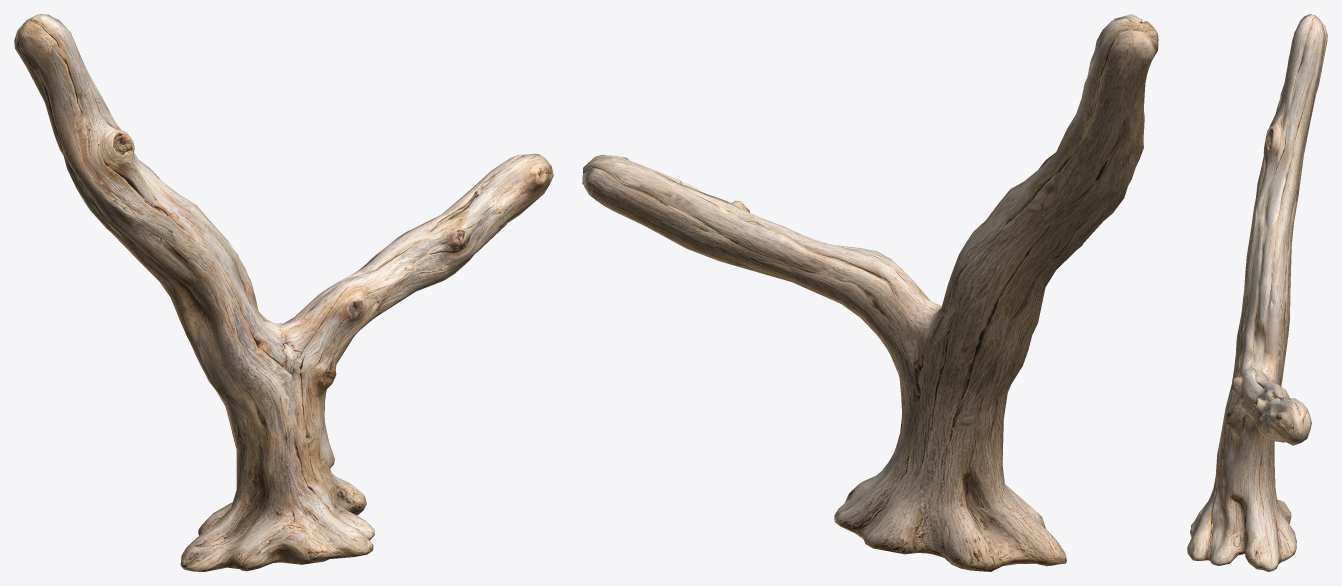
The model's file is branch-v1.glb.
3 views of the same model, side by side, from view 1: azimuth 30°, elevation 25°; view 2: azimuth 150°, elevation 25°; view 3: azimuth 270°, elevation 25° (orthographic). The views are drawn at different scales.
Visible parts, largest first — view 1: tripo_node_6a3108f5-b7b1-4022-bf66-48ef3885a478; view 2: tripo_node_6a3108f5-b7b1-4022-bf66-48ef3885a478; view 3: tripo_node_6a3108f5-b7b1-4022-bf66-48ef3885a478.
Boxes of the visible parts, x1,y1,x2,y2 form: tripo_node_6a3108f5-b7b1-4022-bf66-48ef3885a478: [14, 14, 553, 571]; tripo_node_6a3108f5-b7b1-4022-bf66-48ef3885a478: [582, 14, 1158, 571]; tripo_node_6a3108f5-b7b1-4022-bf66-48ef3885a478: [1187, 14, 1327, 571].
Size of the model in its own units: 1.05 by 1.05 by 0.3007.
Materials: 1 (1 with a texture image).
